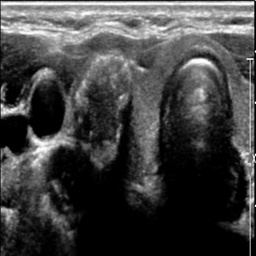mass: (74, 52, 129, 165)
